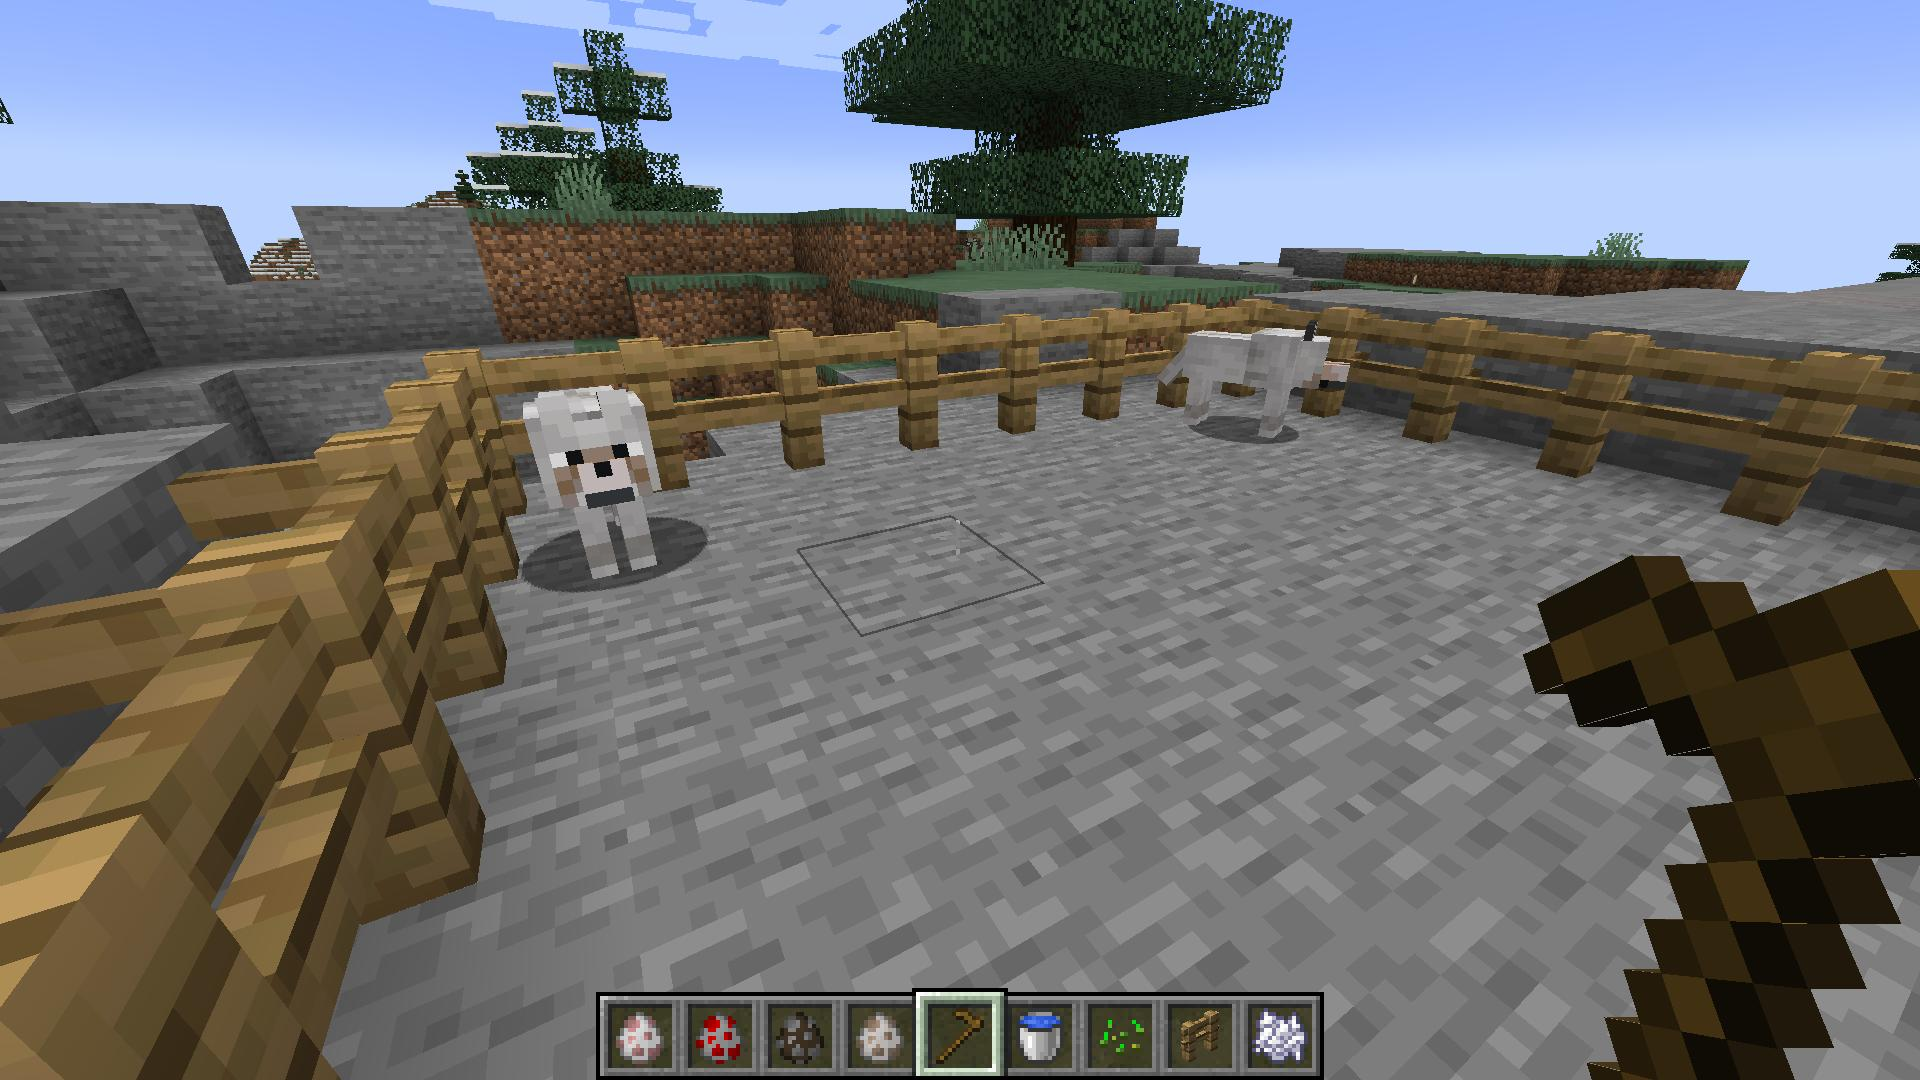wolf: (520, 384, 666, 585), (1150, 322, 1352, 446)
